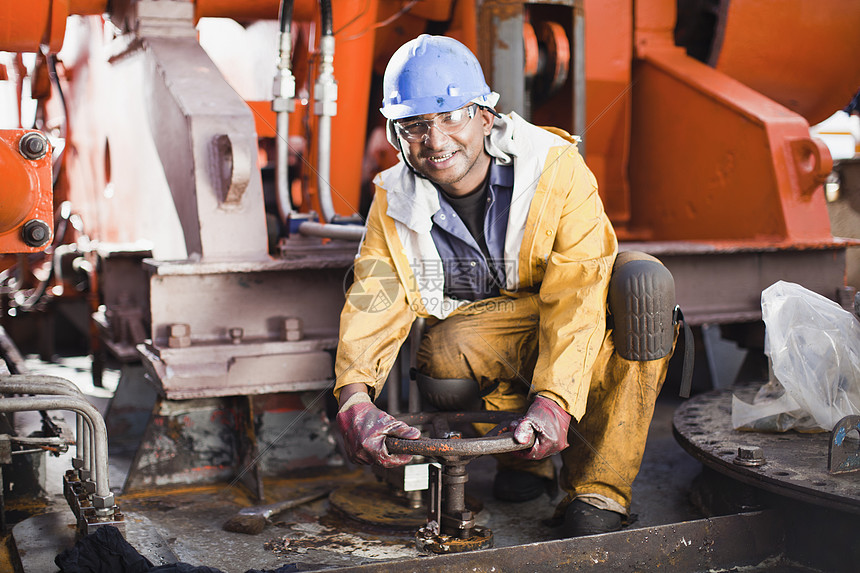safetyhat: (315, 24, 685, 463)
